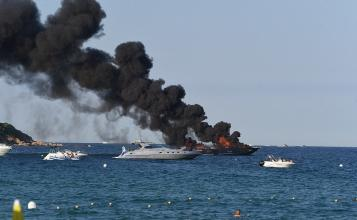smoke: (18, 9, 246, 153)
